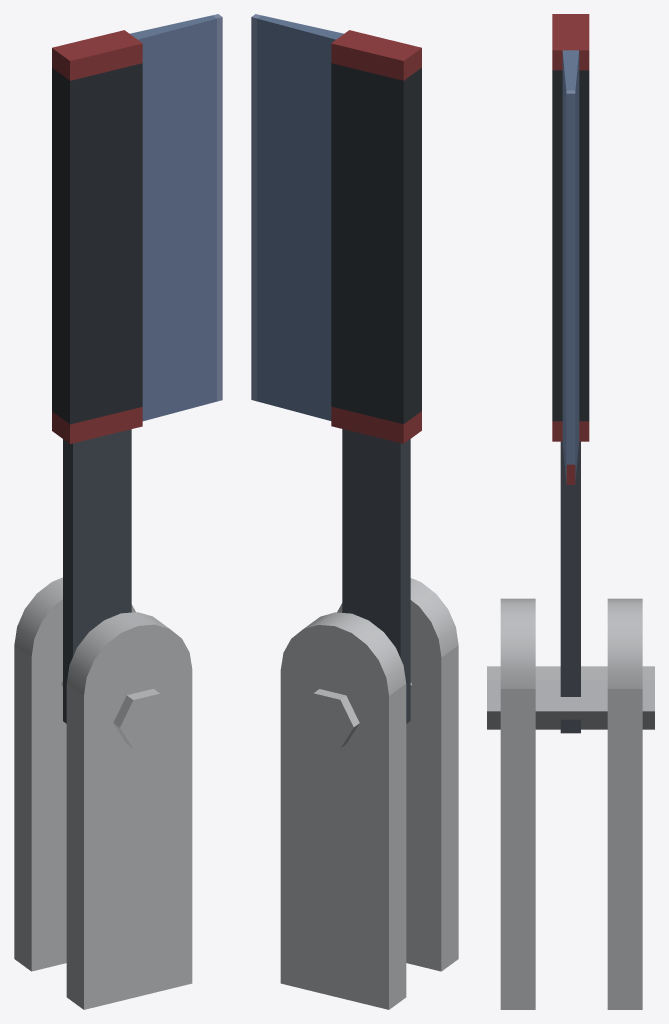
Rendered from Knife 1.fbx.
3 views of the same model, side by side, from view 1: azimuth 30°, elevation 25°; view 2: azimuth 150°, elevation 25°; view 3: azimuth 270°, elevation 25° (orthographic). The views are drawn at different scales.
Parts seen in each view (by area): view 1: Knifre, pCylinder15, pCylinder16, pCylinder17; view 2: Knifre, pCylinder16, pCylinder15, pCylinder17; view 3: Knifre, pCylinder15, pCylinder16, pCylinder17.
Part boxes in pixels (<box>): Knifre: <box>52,14,222,723</box>; pCylinder15: <box>66,612,192,1009</box>; pCylinder16: <box>14,577,135,971</box>; pCylinder17: <box>61,681,173,748</box>; Knifre: <box>251,14,421,723</box>; pCylinder16: <box>280,612,406,1009</box>; pCylinder15: <box>337,578,458,971</box>; pCylinder17: <box>300,682,411,748</box>; Knifre: <box>552,14,589,733</box>; pCylinder15: <box>500,598,535,1009</box>; pCylinder16: <box>607,598,642,1009</box>; pCylinder17: <box>487,666,654,729</box>.
Size of the model in its own units: 28.85 by 150 by 24.03.
